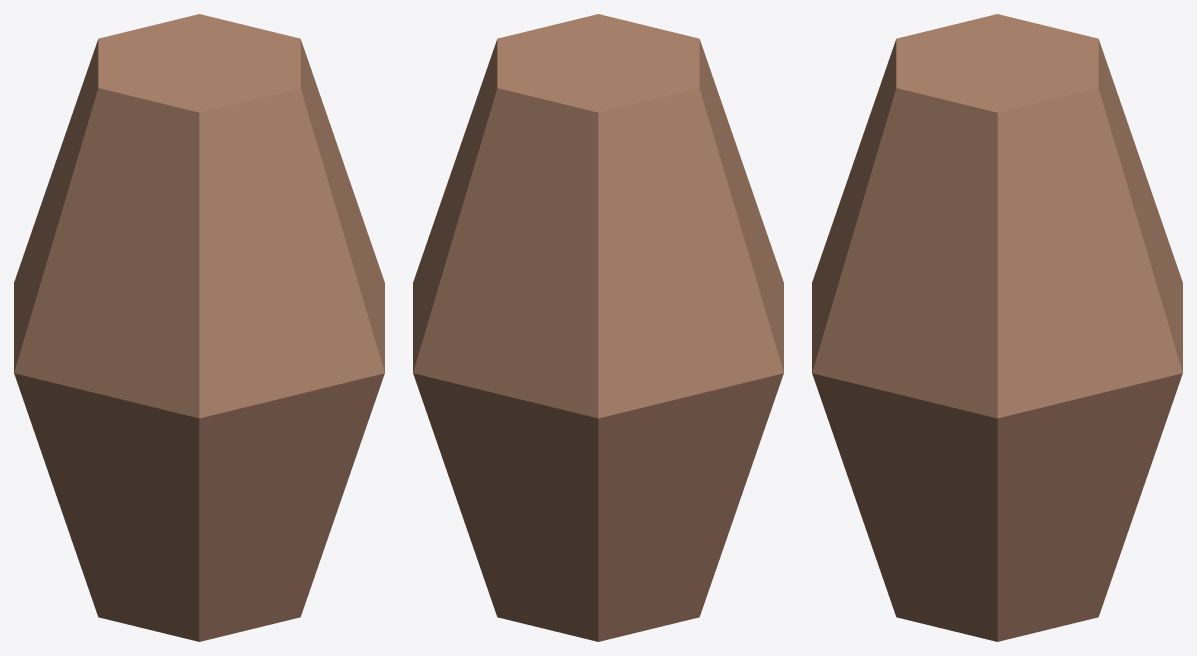
Rendered from pottery_storage_jar_lod2.glb.
The picture shows the model from 3 angles, left to right: view 1: azimuth 30°, elevation 25°; view 2: azimuth 150°, elevation 25°; view 3: azimuth 270°, elevation 25°; orthographic projection.
Parts seen in each view (by area): view 1: pottery_storage_jar; view 2: pottery_storage_jar; view 3: pottery_storage_jar.
Part boxes in pixels (box(x1,y1,x2,y2)): pottery_storage_jar: box(14, 14, 384, 641); pottery_storage_jar: box(413, 14, 783, 641); pottery_storage_jar: box(812, 14, 1182, 641).
Bounding box in the file's own units: 0.44 × 0.6 × 0.3811.
